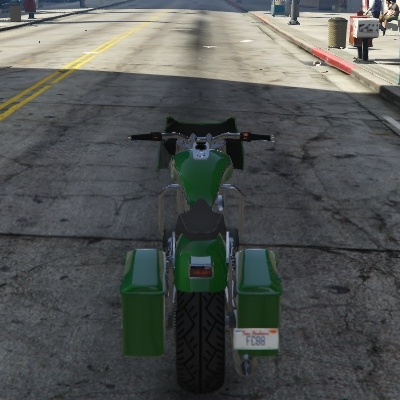off: (186, 250, 217, 285)
